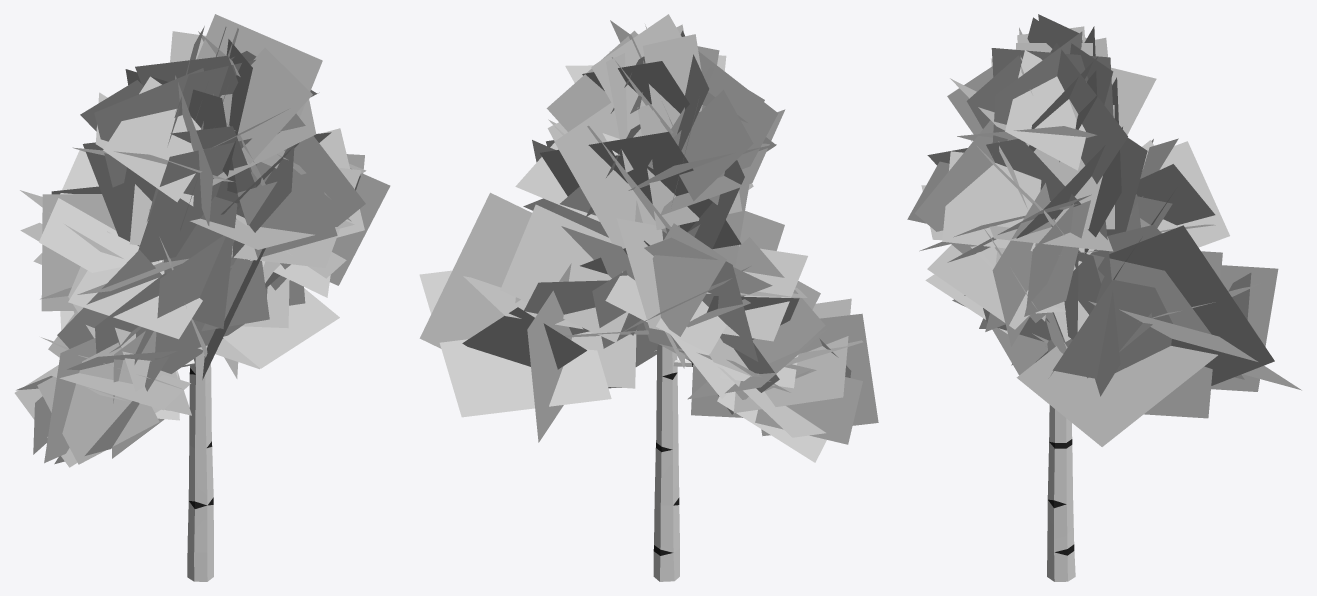
The model's file is Tree_Birch.fbx.
3 renders of one model, left to right at view 1: azimuth 30°, elevation 25°; view 2: azimuth 150°, elevation 25°; view 3: azimuth 270°, elevation 25°, orthographic. The views are drawn at different scales.
Visible parts, largest first — view 1: Tree_Birch_LOD0; view 2: Tree_Birch_LOD0; view 3: Tree_Birch_LOD0.
Part boxes in pixels (box(x1,y1,x2,y2)): Tree_Birch_LOD0: box(14, 14, 390, 581); Tree_Birch_LOD0: box(419, 14, 878, 581); Tree_Birch_LOD0: box(907, 14, 1301, 581).
Size of what is drawn, in the model's own units: 416 by 618 by 392.
